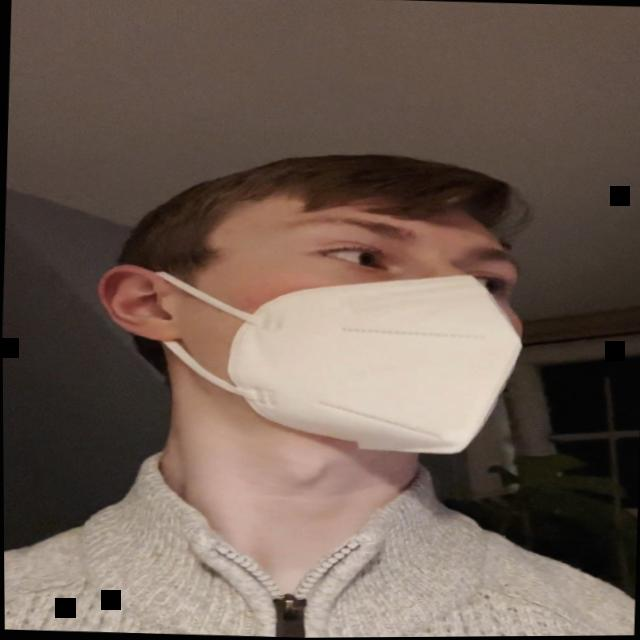Mask: (177, 184, 529, 459)
